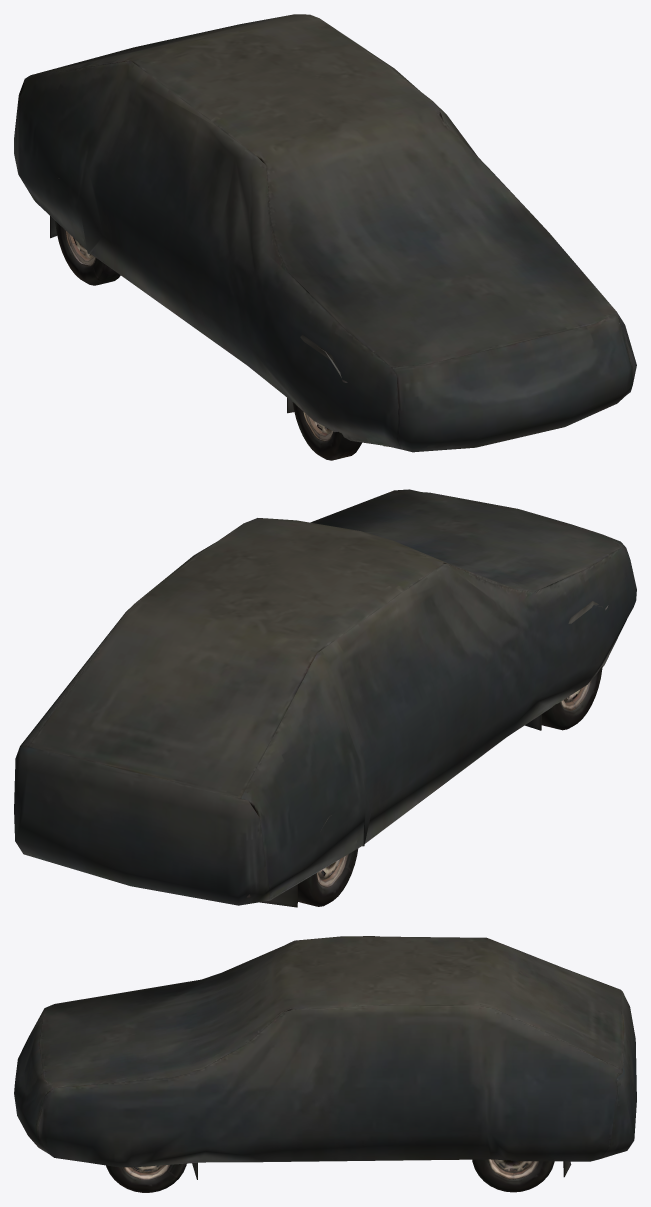
File: scene-car.glb
3 views of the same model, one above another, from view 1: azimuth 30°, elevation 25°; view 2: azimuth 150°, elevation 25°; view 3: azimuth 270°, elevation 25° (orthographic). The views are drawn at different scales.
Parts seen in each view (by area): view 1: covered_car_wheel_01; view 2: covered_car_wheel_01; view 3: covered_car_wheel_01.
Part boxes in pixels (<box>): covered_car_wheel_01: <box>14,14,636,460</box>; covered_car_wheel_01: <box>14,489,636,907</box>; covered_car_wheel_01: <box>14,936,636,1192</box>.
Bounding box in the file's own units: 1.79 × 1.41 × 4.38.
Materials: 1 (1 with a texture image).
